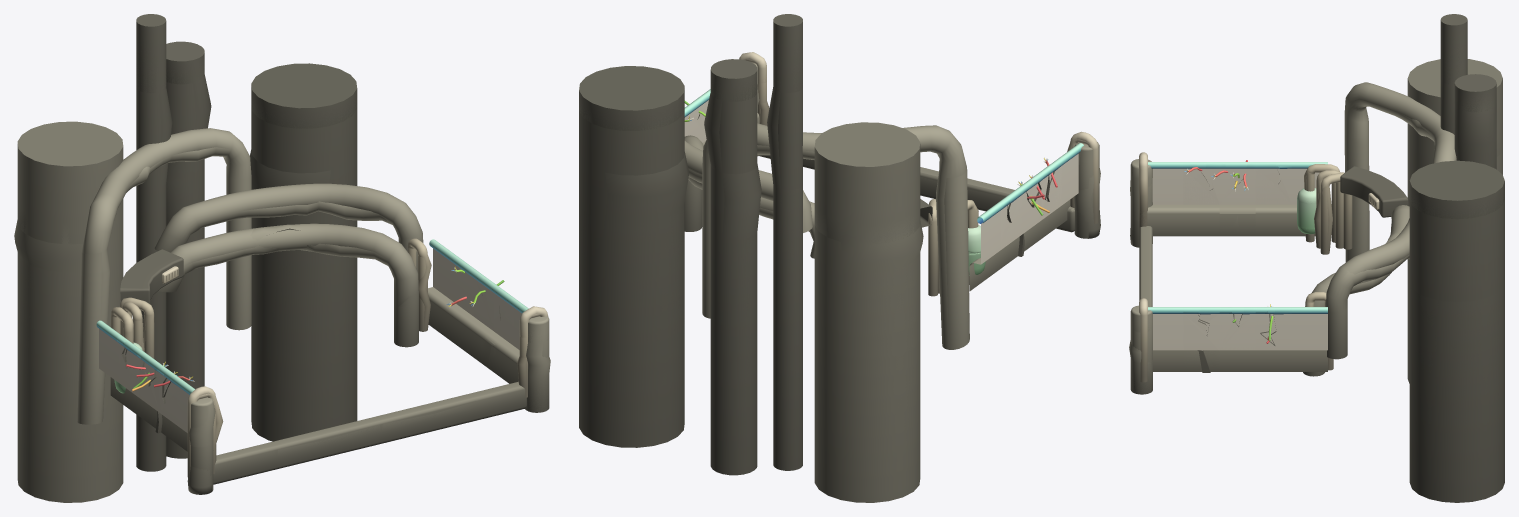
3 renders of one model, left to right at view 1: azimuth 30°, elevation 25°; view 2: azimuth 150°, elevation 25°; view 3: azimuth 270°, elevation 25°, orthographic. The views are drawn at different scales.
Parts seen in each view (by area): view 1: SM_Pipe_BG4_Broken, SM_Pipe_BG1, SM_Pipe_BG4, SM_Pipe_BG1_Broken, SM_Pipe_BG3_Broken, SM_Pipe3_Broken, SM_Pipe_BG2_Broken, SM_Pipe3, SM_FrontWall, SM_FrontWall_Broken, SM_Pipe1, SM_Pipe_BG2 (+27 smaller); view 2: SM_Pipe_BG1_Broken, SM_Pipe_BG4_Broken, SM_Pipe_BG3_Broken, SM_Pipe_BG4, SM_Pipe_BG1, SM_Pipe_BG2_Broken, SM_Pipe_BG3, SM_Pipe_BG2, SM_Pipe3_Broken, SM_Pipe3, SM_Wall11, SM_Wall7 (+17 smaller); view 3: SM_Pipe_BG4_Broken, SM_Pipe_BG4, SM_Pipe3_Broken, SM_Pipe_BG3_Broken, SM_Pipe_BG1_Broken, SM_Pipe_BG2_Broken, SM_Wall7, SM_Wall_Broken3, SM_Wall_Broken1, SM_Wall1, SM_Wall_Broken4, SM_Pipe2_Broken (+29 smaller).
Part boxes in pixels (left/top/right/bottom): SM_Pipe_BG4_Broken: left=250, top=63, right=357, bottom=441; SM_Pipe_BG1: left=17, top=121, right=123, bottom=502; SM_Pipe_BG4: left=251, top=91, right=357, bottom=441; SM_Pipe_BG1_Broken: left=14, top=121, right=123, bottom=502; SM_Pipe_BG3_Broken: left=166, top=41, right=211, bottom=458; SM_Pipe3_Broken: left=82, top=133, right=251, bottom=423; SM_Pipe_BG2_Broken: left=136, top=14, right=172, bottom=471; SM_Pipe3: left=77, top=128, right=233, bottom=424; SM_FrontWall: left=213, top=381, right=526, bottom=484; SM_FrontWall_Broken: left=213, top=382, right=526, bottom=484; SM_Pipe1: left=170, top=223, right=418, bottom=346; SM_Pipe_BG2: left=136, top=22, right=166, bottom=471; SM_Pipe_BG1_Broken: left=814, top=122, right=923, bottom=502; SM_Pipe_BG4_Broken: left=579, top=66, right=688, bottom=447; SM_Pipe_BG3_Broken: left=704, top=59, right=761, bottom=475; SM_Pipe_BG4: left=579, top=92, right=684, bottom=447; SM_Pipe_BG1: left=814, top=123, right=920, bottom=502; SM_Pipe_BG2_Broken: left=767, top=14, right=802, bottom=470; SM_Pipe_BG3: left=710, top=73, right=757, bottom=475; SM_Pipe_BG2: left=773, top=22, right=802, bottom=470; SM_Pipe3_Broken: left=702, top=125, right=966, bottom=349; SM_Pipe3: left=757, top=123, right=969, bottom=349; SM_Wall11: left=969, top=202, right=1003, bottom=291; SM_Wall7: left=1050, top=143, right=1083, bottom=232; SM_Pipe_BG4_Broken: left=1409, top=160, right=1504, bottom=502; SM_Pipe_BG4: left=1409, top=183, right=1504, bottom=502; SM_Pipe3_Broken: left=1344, top=82, right=1456, bottom=262; SM_Pipe_BG3_Broken: left=1454, top=74, right=1496, bottom=168; SM_Pipe_BG1_Broken: left=1407, top=59, right=1502, bottom=383; SM_Pipe_BG2_Broken: left=1440, top=14, right=1467, bottom=134; SM_Wall7: left=1147, top=162, right=1183, bottom=236; SM_Wall_Broken3: left=1255, top=162, right=1291, bottom=236; SM_Wall_Broken1: left=1183, top=162, right=1219, bottom=236; SM_Wall1: left=1292, top=307, right=1327, bottom=371; SM_Wall_Broken4: left=1255, top=304, right=1291, bottom=371; SM_Pipe2_Broken: left=1325, top=254, right=1409, bottom=359.
Bounding box in the file's own units: 1060 × 1220 × 1038.
Materials: 1 (1 with a texture image).
